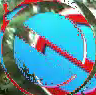No waiting: (8, 9, 90, 90)
